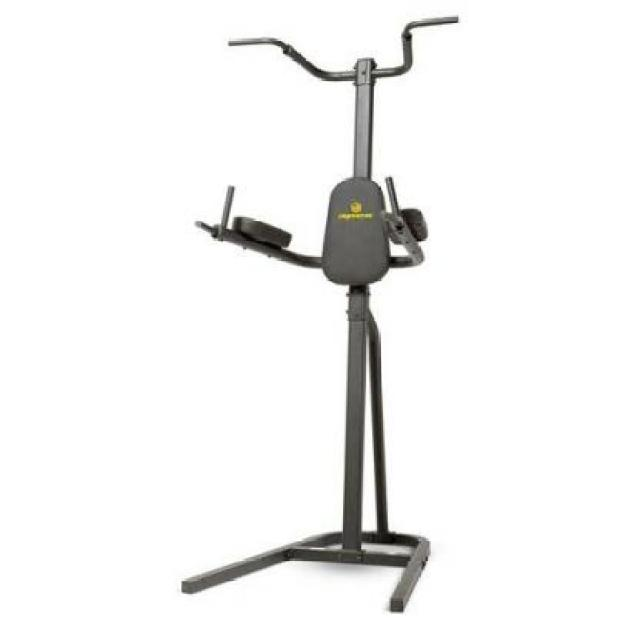chinning dipping: (183, 16, 462, 616)
